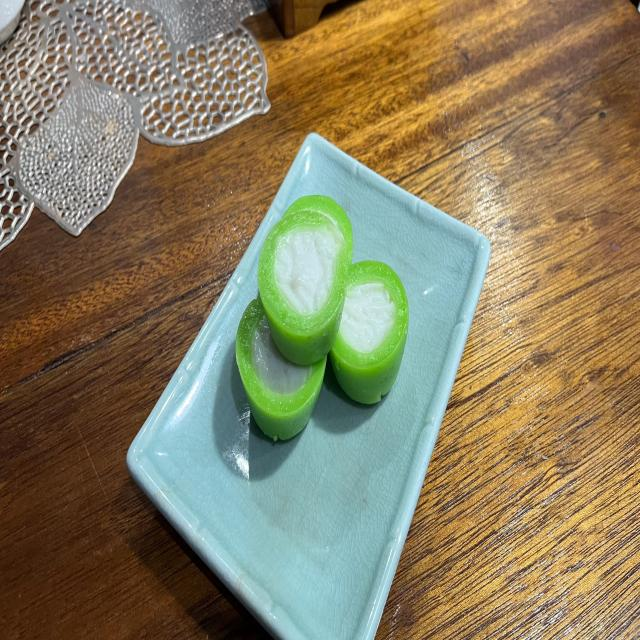nona-manis: (259, 211, 349, 364), (236, 298, 326, 440), (330, 260, 409, 404), (284, 196, 352, 264)
